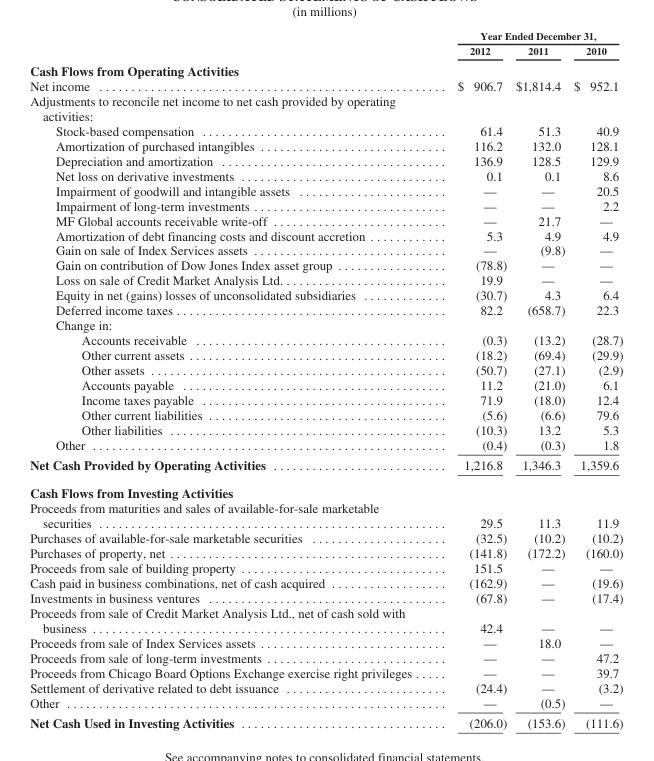table: (29, 29, 622, 730)
table column: (29, 29, 434, 730), (434, 29, 510, 730), (510, 29, 568, 730), (568, 29, 622, 730)
table column header: (29, 29, 622, 59)
table projected row header: (29, 92, 622, 122), (29, 478, 622, 500), (29, 59, 622, 77), (29, 317, 622, 332)
table row: (29, 92, 622, 122), (29, 500, 622, 530), (29, 605, 622, 635), (29, 454, 622, 478), (29, 478, 622, 500), (29, 59, 622, 77), (29, 712, 622, 730), (29, 437, 622, 454), (29, 695, 622, 712), (29, 43, 622, 59), (29, 77, 622, 92), (29, 122, 622, 137), (29, 137, 622, 152), (29, 152, 622, 167), (29, 167, 622, 182), (29, 182, 622, 197), (29, 197, 622, 212), (29, 212, 622, 227), (29, 227, 622, 242), (29, 242, 622, 257), (29, 257, 622, 272), (29, 272, 622, 287), (29, 287, 622, 302), (29, 302, 622, 317), (29, 317, 622, 332), (29, 332, 622, 347), (29, 347, 622, 362), (29, 362, 622, 377), (29, 377, 622, 392), (29, 392, 622, 407), (29, 407, 622, 422), (29, 422, 622, 437), (29, 530, 622, 545), (29, 545, 622, 560), (29, 560, 622, 575), (29, 575, 622, 590), (29, 590, 622, 605), (29, 635, 622, 650), (29, 650, 622, 665), (29, 665, 622, 680), (29, 680, 622, 695), (29, 29, 622, 43)
table spanning cell: (434, 29, 622, 43)
